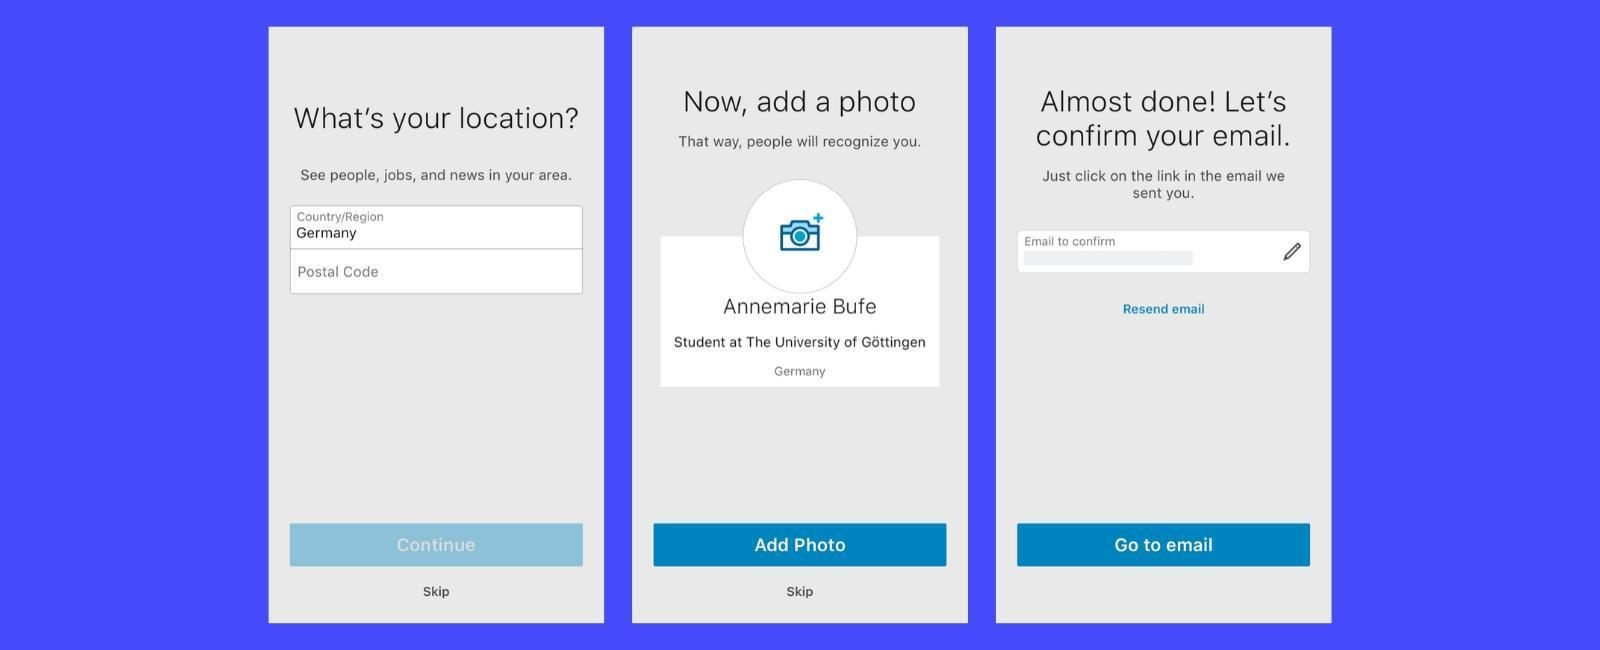button: (287, 520, 585, 569), (655, 520, 950, 569), (1019, 521, 1312, 568)
icon: (780, 209, 831, 254), (1279, 238, 1305, 266)
input: (1019, 229, 1312, 278), (293, 249, 585, 295), (293, 208, 581, 251)
label: (1031, 91, 1298, 160), (293, 98, 587, 139), (674, 87, 924, 120)
